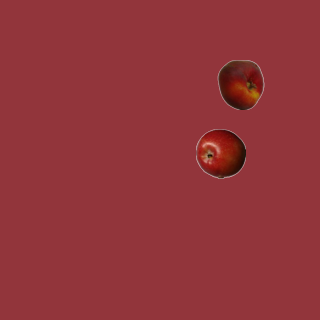Apple Braeburn: (195, 128, 245, 178)
Nectarine Flat: (215, 59, 265, 109)
